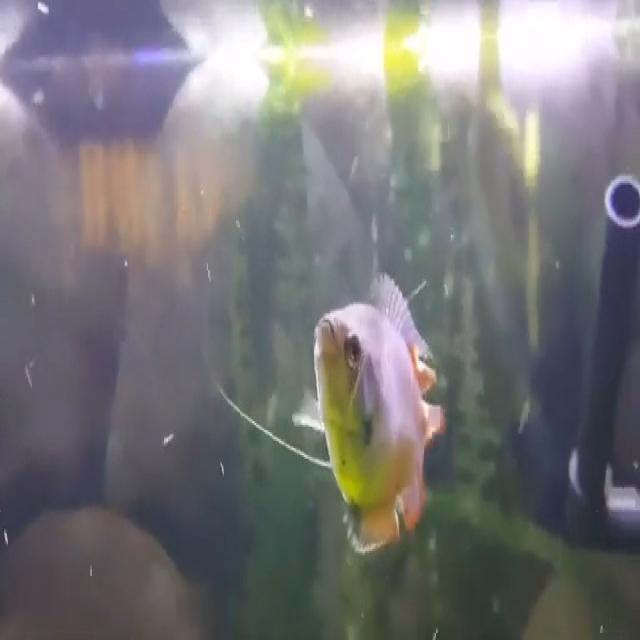fish: (311, 273, 448, 554)
